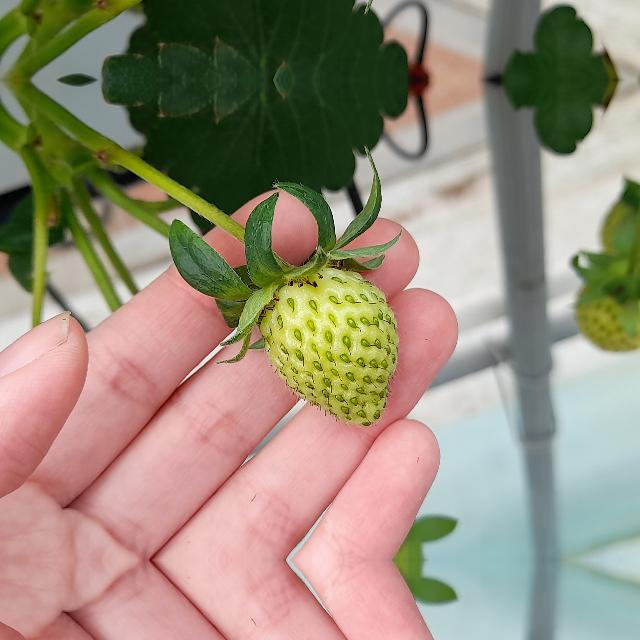Health_25: (258, 266, 398, 426)
